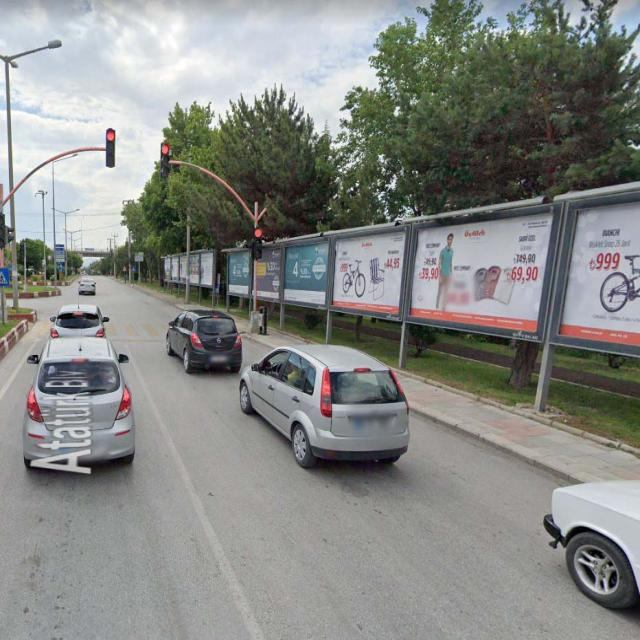kirmizi: (157, 141, 170, 179), (252, 225, 264, 259), (105, 129, 115, 164)
